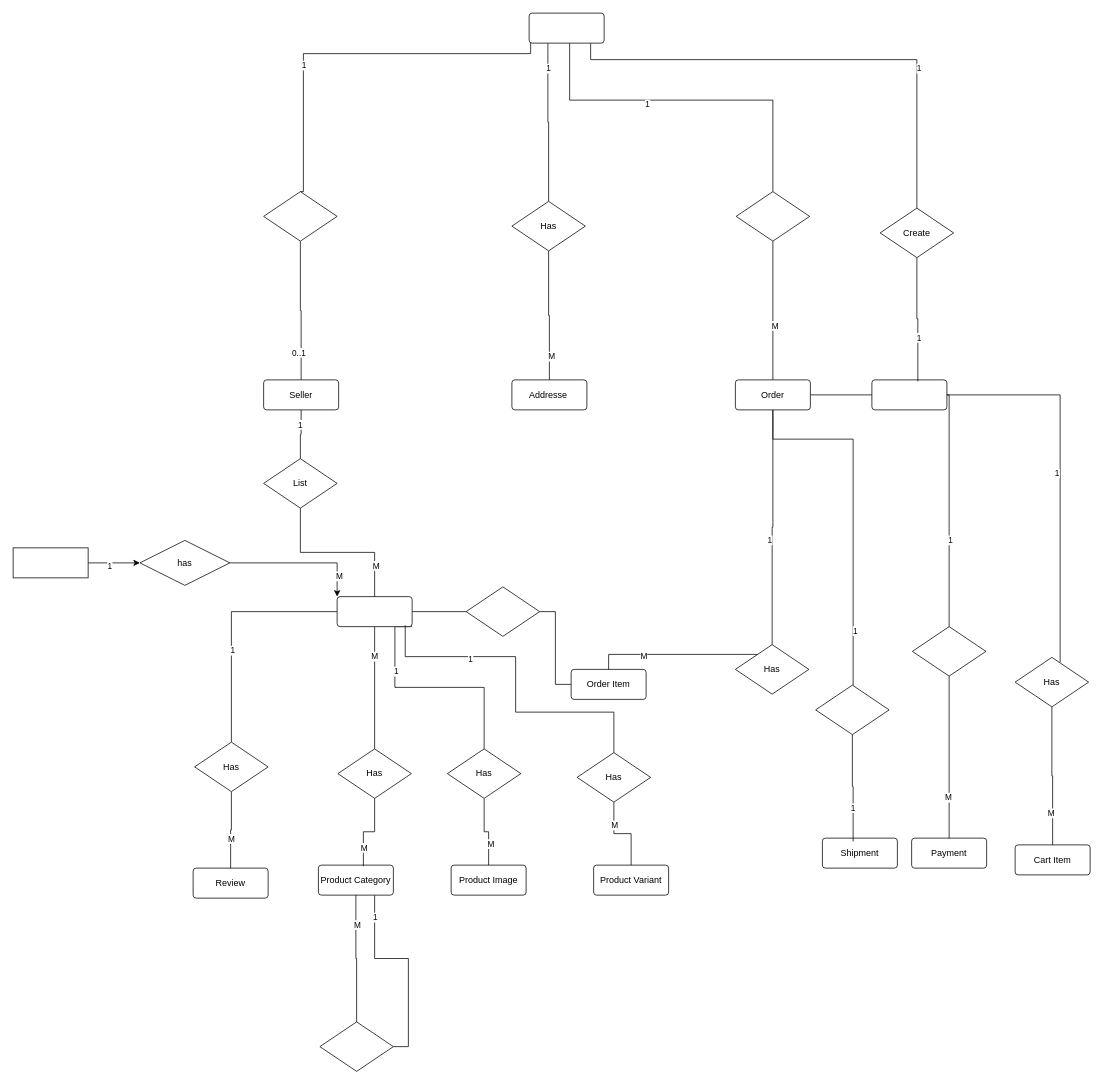
The diagram is 1103 pixels wide and 1085 high, and some of its shapes have lost their labels. Here are the shapes that lost their labels. From the top down, the centre of each, then its label:
the point at 566,27: User
the point at 300,216: Owns
the point at 772,216: Make
the point at 909,394: Cart
the point at 50,562: Brand
the point at 374,611: Product
the point at 502,611: Relationship
the point at 949,651: Paid By
the point at 852,709: Shipped By
the point at 356,1046: Parent
